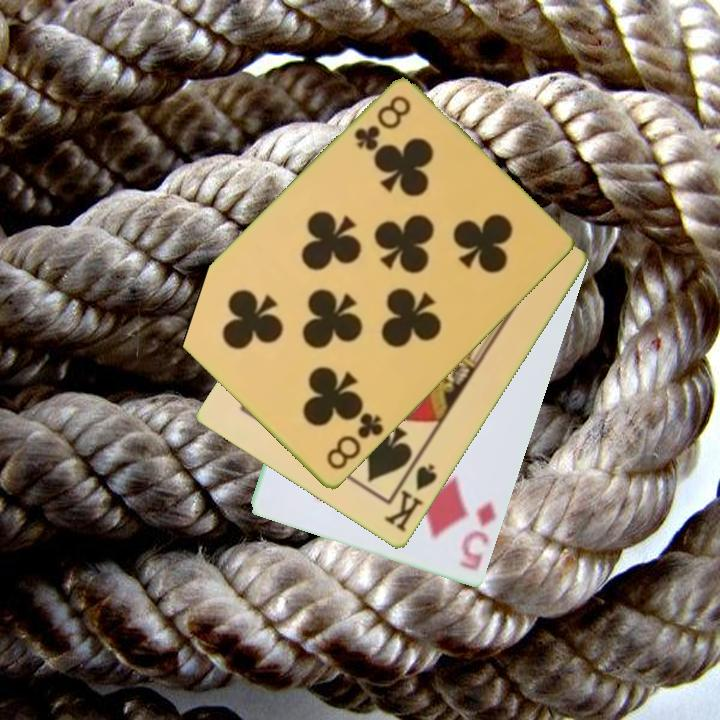5d: (456, 499, 500, 574)
8c: (322, 409, 387, 473), (351, 92, 414, 155)
Ks: (380, 460, 441, 536)
